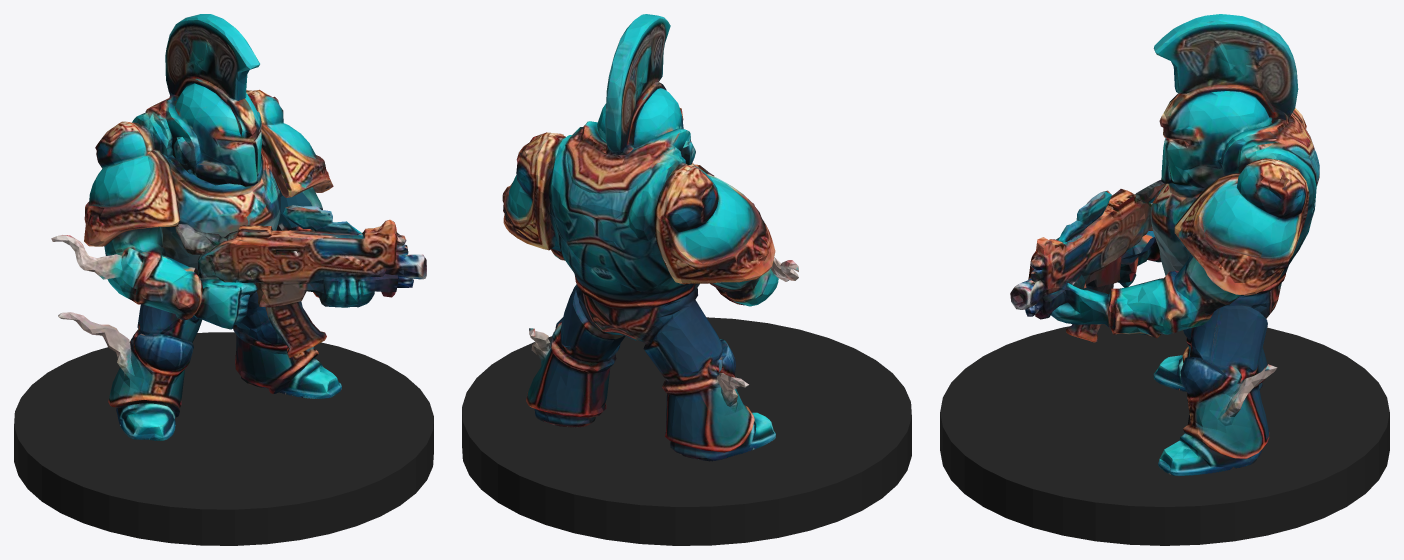
Rendered from wc-rubric-marine-warrior-b.glb.
3 renders of one model, left to right at view 1: azimuth 30°, elevation 25°; view 2: azimuth 150°, elevation 25°; view 3: azimuth 270°, elevation 25°, orthographic. The views are drawn at different scales.
Visible parts, largest first — view 1: figure, base; view 2: figure, base; view 3: figure, base.
Boxes of the visible parts, x1,y1,x2,y2 form: figure: (51, 14, 426, 440); base: (14, 332, 433, 545); figure: (502, 14, 798, 461); base: (462, 317, 911, 545); figure: (1010, 14, 1319, 475); base: (940, 324, 1389, 545).
Bounding box in the file's own units: 1.26 × 1.37 × 1.26.
2 materials, 1 textured.
